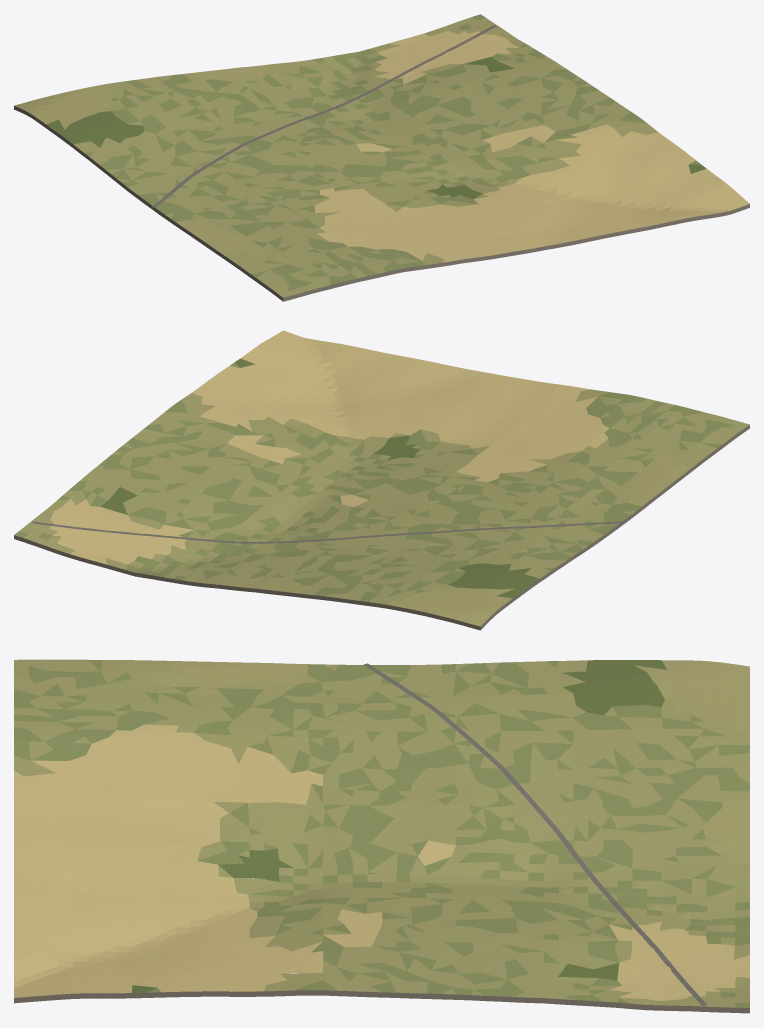
The model's file is parca_-2_-2-uzak.glb.
3 views of the same model, one above another, from view 1: azimuth 30°, elevation 25°; view 2: azimuth 150°, elevation 25°; view 3: azimuth 270°, elevation 25° (orthographic). The views are drawn at different scales.
Parts seen in each view (by area): view 1: parca_-2_-2_arazi_uzak, parca_-2_-2_yollar_uzak; view 2: parca_-2_-2_arazi_uzak, parca_-2_-2_yollar_uzak; view 3: parca_-2_-2_arazi_uzak, parca_-2_-2_yollar_uzak.
Part boxes in pixels (<box>): parca_-2_-2_arazi_uzak: <box>14,14,749,301</box>; parca_-2_-2_yollar_uzak: <box>152,25,496,207</box>; parca_-2_-2_arazi_uzak: <box>14,330,749,630</box>; parca_-2_-2_yollar_uzak: <box>32,521,622,543</box>; parca_-2_-2_arazi_uzak: <box>14,659,749,1013</box>; parca_-2_-2_yollar_uzak: <box>363,663,707,1005</box>.
Bounding box in the file's own units: 1004 × 82.96 × 1000.
